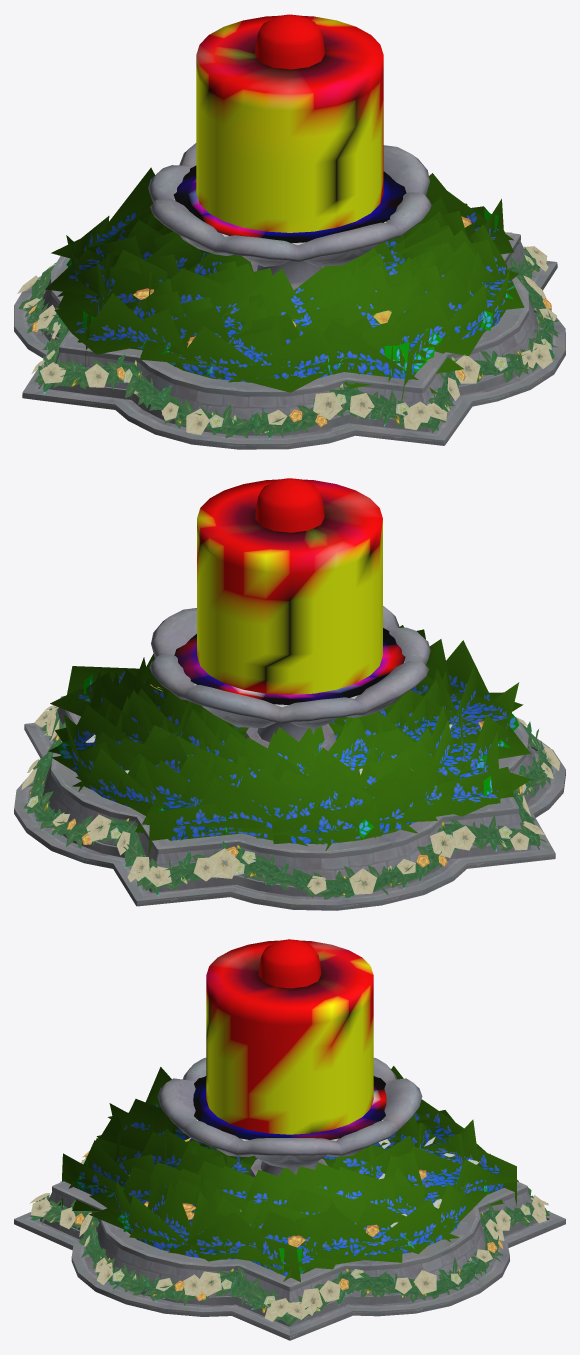
Rendered from Homeworld_Exterior_Common_Build_Decoration_Greenfountain_01_Lod0.fbx.
3 views of the same model, one above another, from view 1: azimuth 30°, elevation 25°; view 2: azimuth 150°, elevation 25°; view 3: azimuth 270°, elevation 25° (orthographic). The views are drawn at different scales.
Visible parts, largest first — view 1: Homeworld_Exterior_Common_Build_Decoration_Greenfountain_01_ (×4); view 2: Homeworld_Exterior_Common_Build_Decoration_Greenfountain_01_ (×4); view 3: Homeworld_Exterior_Common_Build_Decoration_Greenfountain_01_ (×4).
Boxes of the visible parts, x1,y1,x2,y2 form: Homeworld_Exterior_Common_Build_Decoration_Greenfountain_01_ (×4): (14, 14, 565, 449); Homeworld_Exterior_Common_Build_Decoration_Greenfountain_01_ (×4): (14, 478, 565, 910); Homeworld_Exterior_Common_Build_Decoration_Greenfountain_01_ (×4): (14, 939, 565, 1340).
Bounding box in the file's own units: 5.03 × 2.98 × 5.03.
